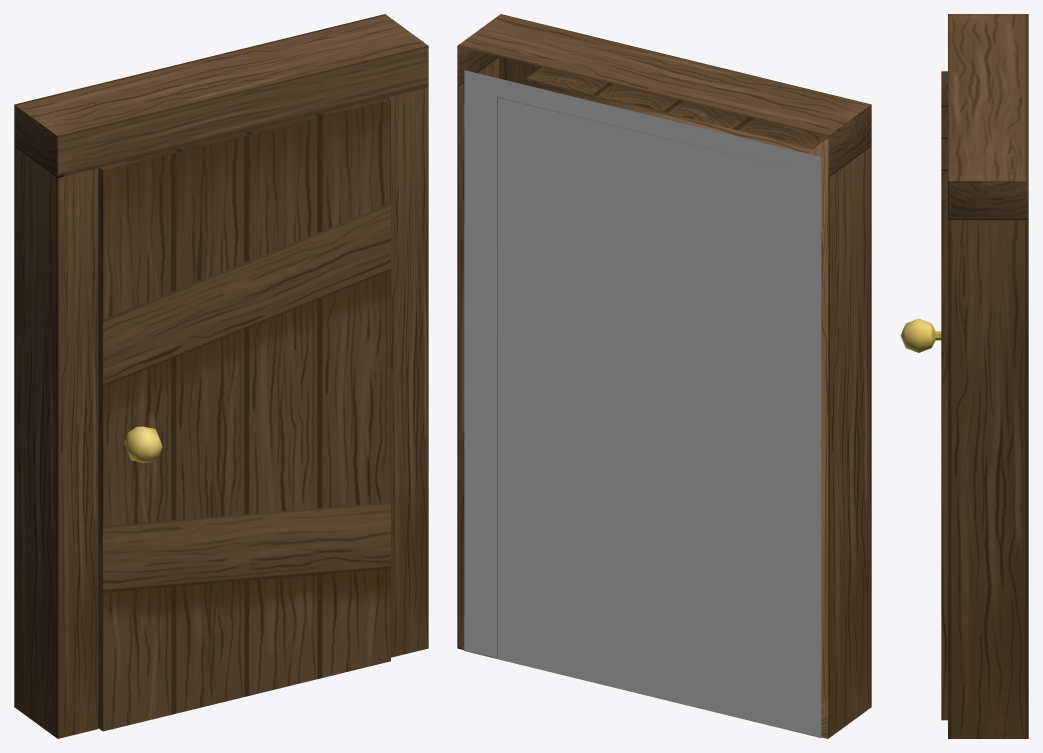
Rendered from Door.FBX.
3 renders of one model, left to right at view 1: azimuth 30°, elevation 25°; view 2: azimuth 150°, elevation 25°; view 3: azimuth 270°, elevation 25°, orthographic. The views are drawn at different scales.
Parts seen in each view (by area): view 1: Box002; view 2: Plane001, Box002; view 3: Box002.
Boxes of the visible parts, x1,y1,x2,y2 form: Box002: (14, 14, 428, 738); Plane001: (464, 70, 821, 737); Box002: (457, 14, 871, 738); Box002: (900, 14, 1028, 738).
Bounding box in the file's own units: 17.18 × 26.71 × 5.56.
